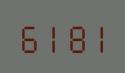eight: (62, 20, 83, 53)
one: (40, 20, 61, 53), (84, 20, 105, 53)
six: (18, 20, 39, 53)
